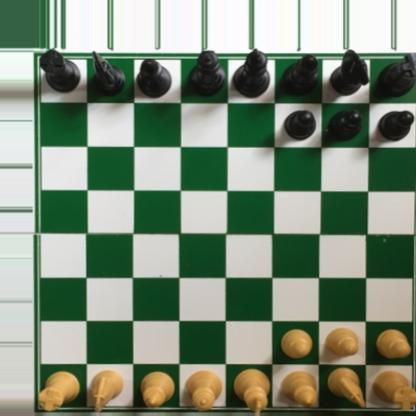black-bishop: (281, 54, 319, 97), (134, 58, 171, 97)
black-king: (231, 48, 272, 97)
black-knight: (331, 48, 371, 97), (86, 49, 126, 96)
black-pawn: (327, 106, 363, 142), (375, 108, 415, 140), (282, 107, 317, 140)
black-queen: (189, 49, 227, 100)
black-rook: (36, 48, 81, 93), (377, 48, 416, 95)
white-bishop: (141, 368, 177, 413), (280, 368, 319, 407)
white-king: (233, 368, 270, 413)
white-knight: (325, 365, 365, 409), (85, 370, 123, 413)
white-pawn: (324, 326, 359, 356), (375, 327, 411, 356), (279, 326, 311, 357)
white-queen: (183, 368, 224, 413)
white-rook: (33, 369, 81, 413), (371, 368, 416, 411)
